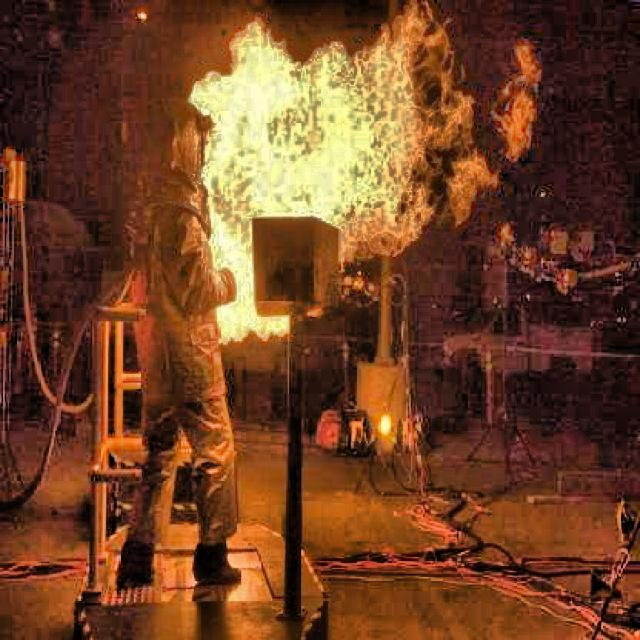Fire: (186, 0, 497, 342), (498, 40, 540, 154)
